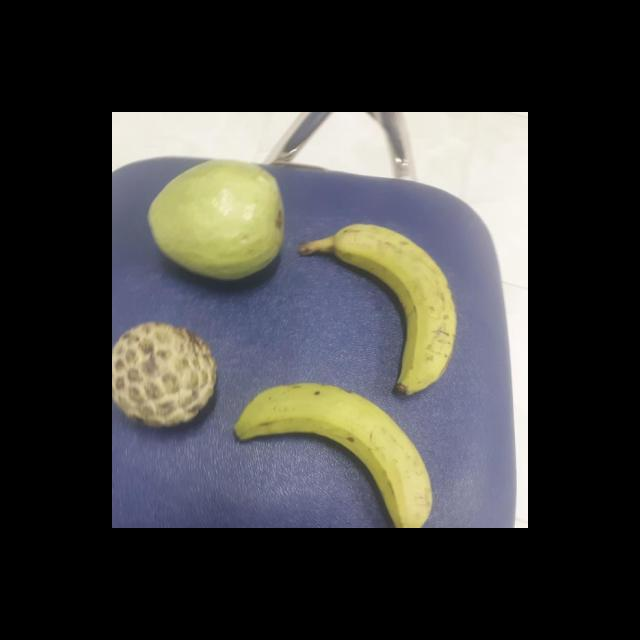Sakya fruit: (112, 324, 218, 429)
banana: (222, 386, 424, 528), (298, 225, 454, 394)
guava: (148, 156, 286, 283)
